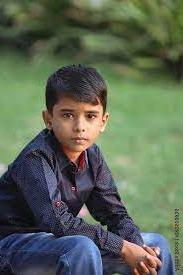Human: (4, 33, 165, 275)
